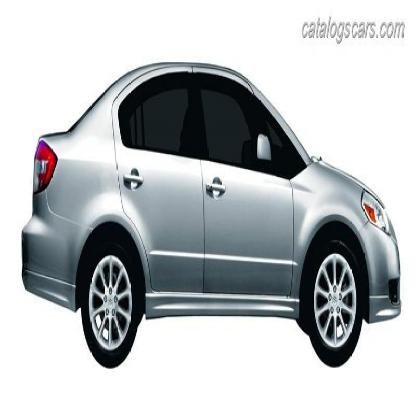Vehicle: (19, 57, 402, 374)
